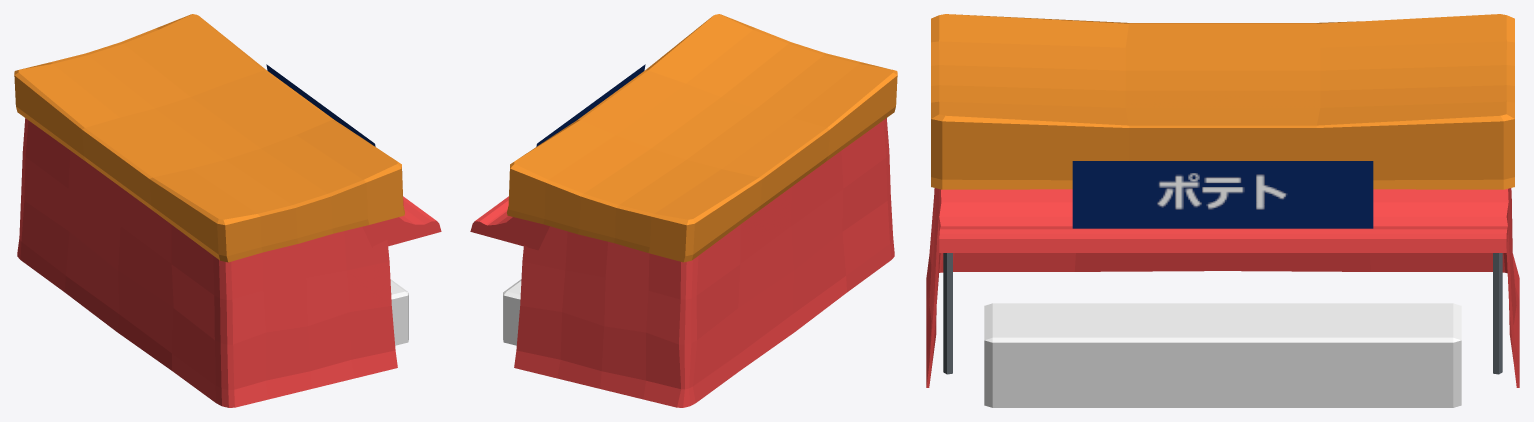
File: rowyataiyakitorilong3.fbx
The picture shows the model from 3 angles, left to right: view 1: azimuth 30°, elevation 25°; view 2: azimuth 150°, elevation 25°; view 3: azimuth 270°, elevation 25°; orthographic projection. The views are drawn at different scales.
Visible parts, largest first — view 1: Cube, 立方体, Cube.001, 立方体.001, 平面; view 2: Cube, 立方体, Cube.001, 立方体.001, 平面; view 3: Cube, 立方体.001, Cube.001, 平面, 立方体, 円柱.
Part boxes in pixels (x1=…): Cube: x1=14, y1=14, x2=404, y2=262; 立方体: x1=17, y1=118, x2=397, y2=407; Cube.001: x1=362, y1=196, x2=441, y2=247; 立方体.001: x1=390, y1=279, x2=408, y2=345; 平面: x1=266, y1=64, x2=375, y2=146; Cube: x1=507, y1=14, x2=897, y2=262; 立方体: x1=514, y1=118, x2=894, y2=407; Cube.001: x1=470, y1=196, x2=549, y2=250; 立方体.001: x1=503, y1=279, x2=521, y2=345; 平面: x1=536, y1=64, x2=645, y2=146; Cube: x1=931, y1=14, x2=1514, y2=189; 立方体.001: x1=984, y1=303, x2=1461, y2=407; Cube.001: x1=939, y1=189, x2=1508, y2=252; 平面: x1=1072, y1=161, x2=1373, y2=228; 立方体: x1=926, y1=188, x2=1519, y2=387; 円柱: x1=943, y1=253, x2=1502, y2=374.
Bounding box in the file's own units: 133 × 114 × 221.
Materials: 3 (3 with a texture image).
